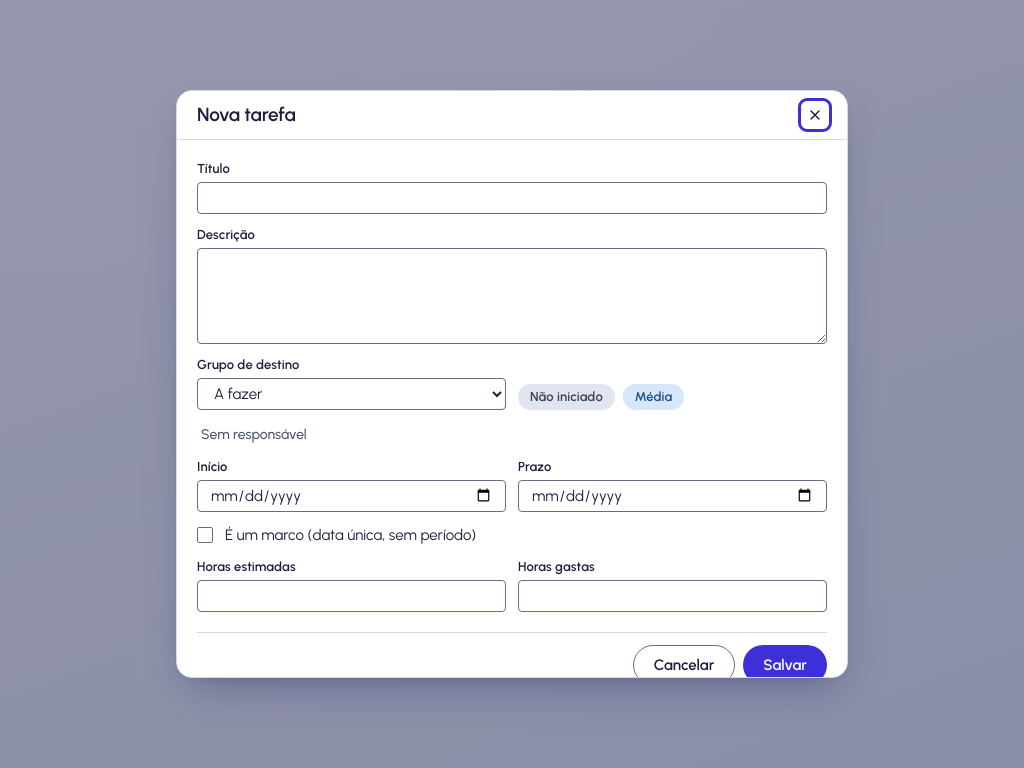
TaskModal — modo criação › título vazio bloqueia salvar, com erro no campo (critério F5.3)
Click the button "Salvar" at (785, 665), box [743,645,827,685]
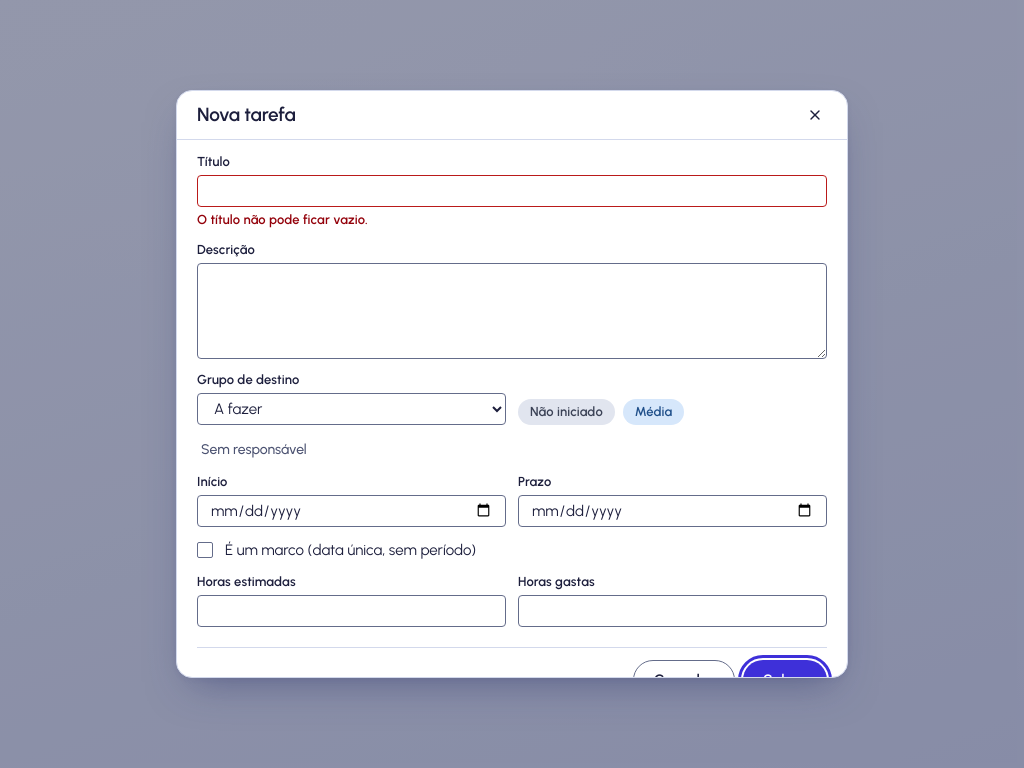
Expected: the message shows "título", [197,212,368,227]
